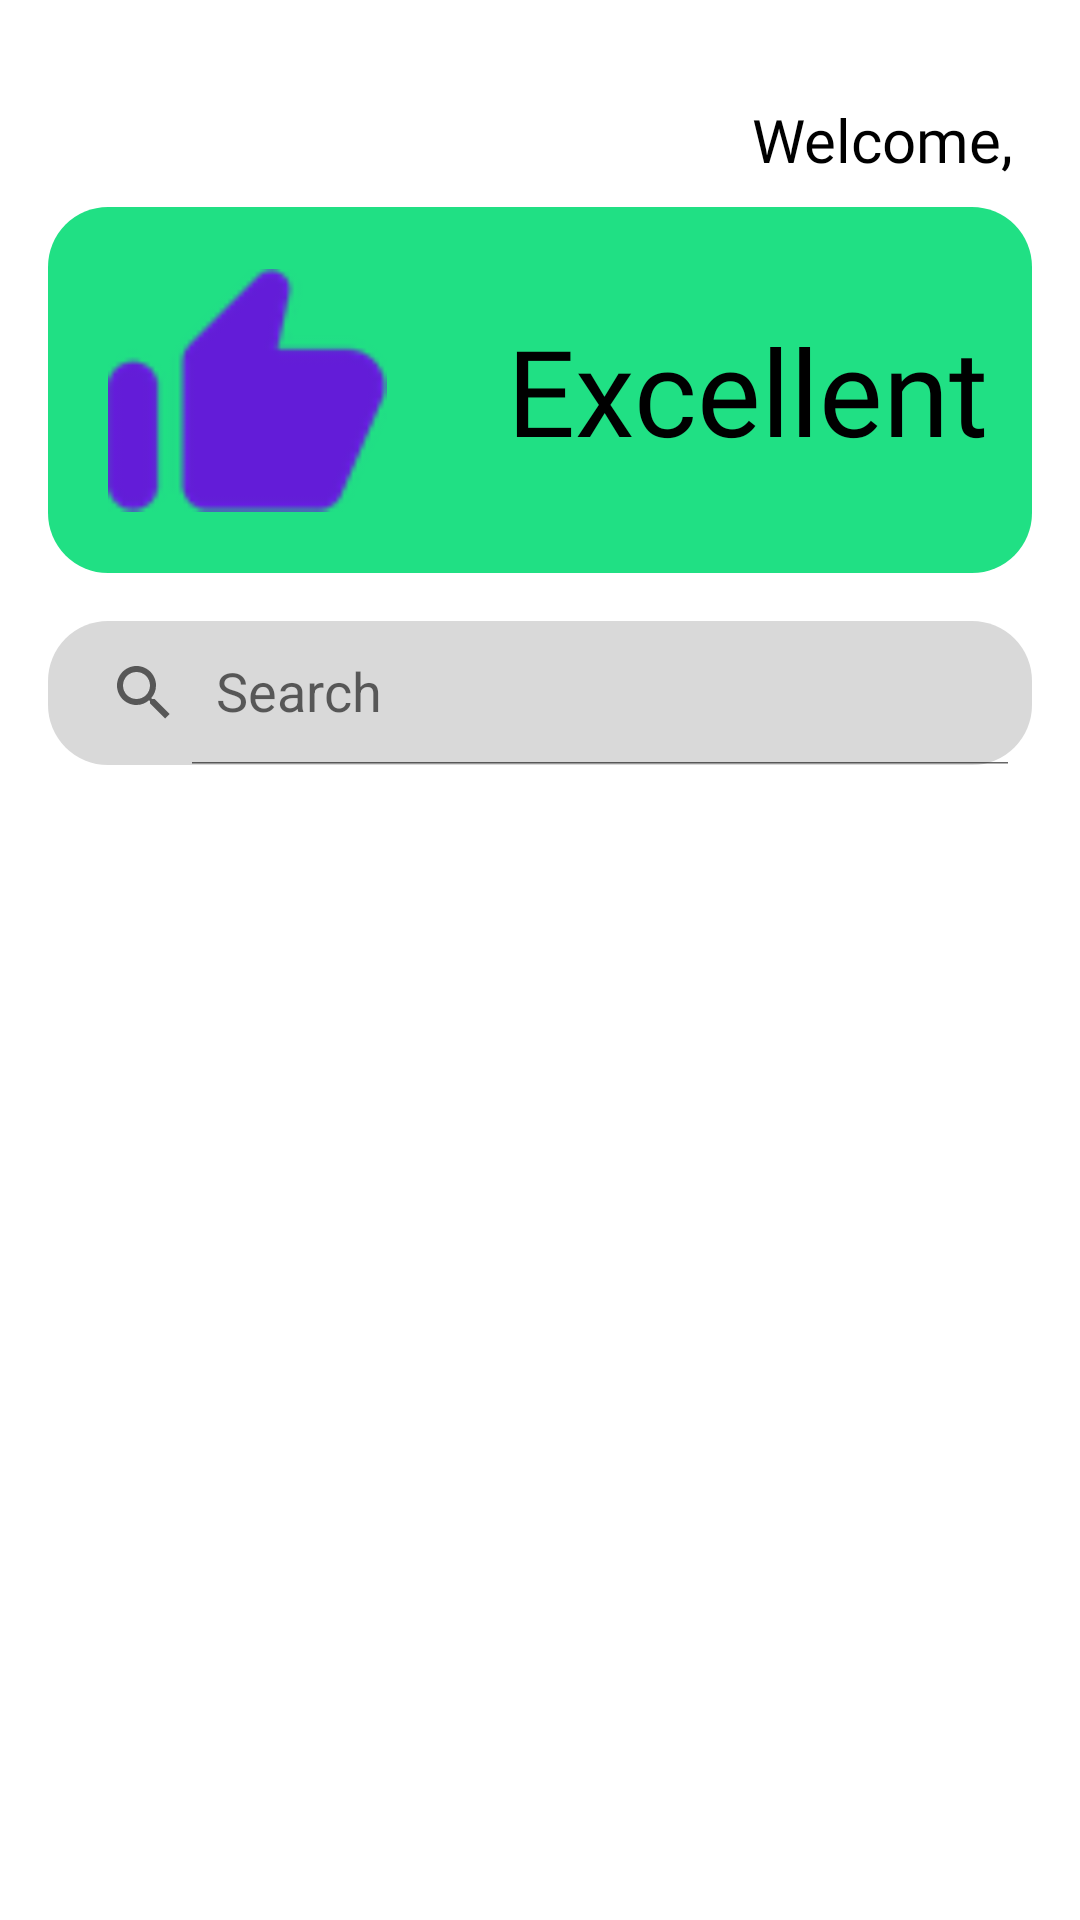

Icon click points for this 1080w x 1920h phone screenshot, format (x=x, y=y):
thumb: (x=247, y=390)
